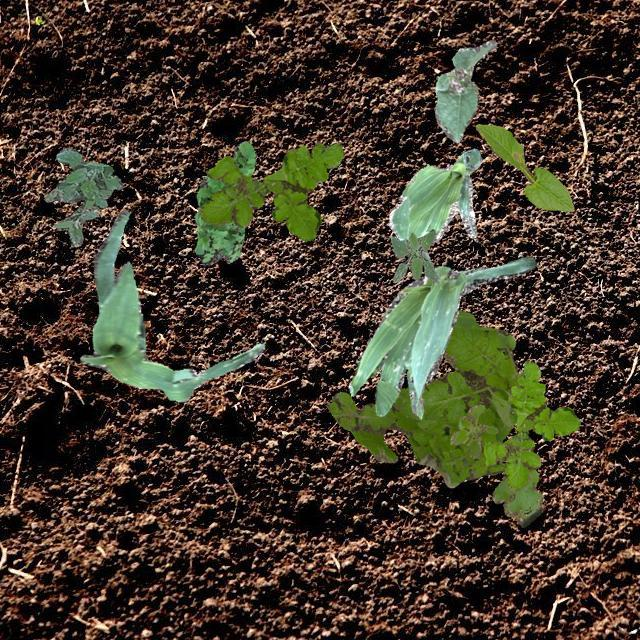crop: (80, 210, 264, 400), (347, 256, 537, 418), (388, 148, 482, 260), (474, 122, 572, 210), (434, 38, 496, 142)
weed: (324, 309, 542, 526), (198, 140, 342, 240), (482, 360, 580, 490), (44, 147, 122, 246), (193, 140, 254, 264), (389, 228, 438, 282), (449, 404, 496, 456)
